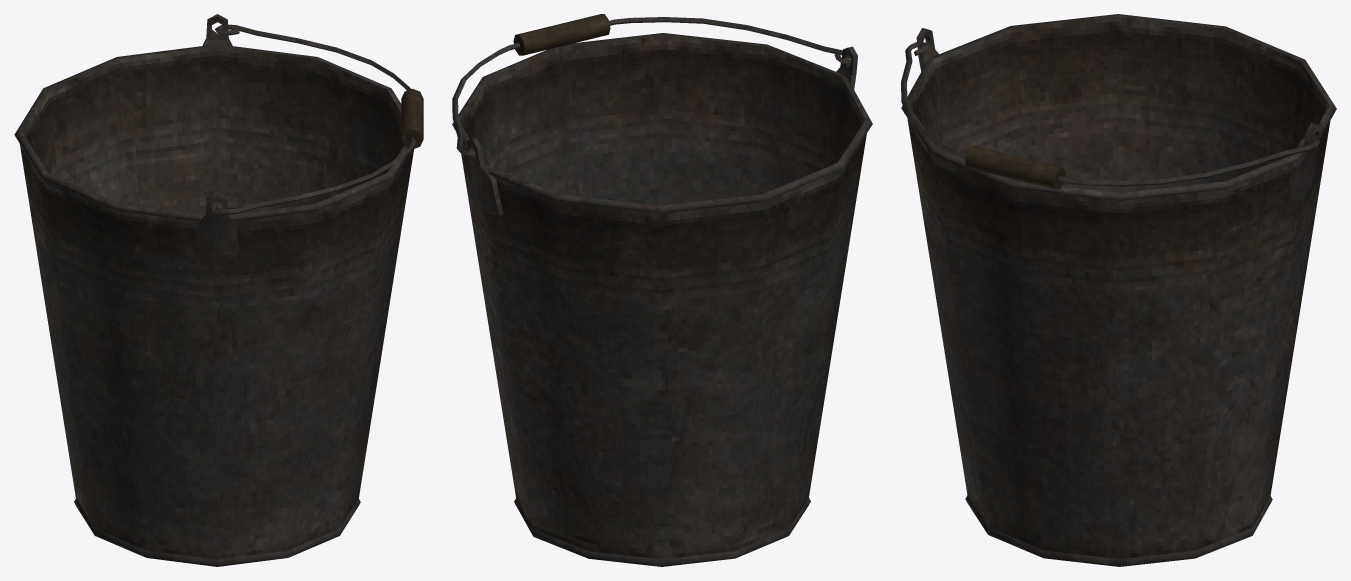
Rendered from bucket_mx_2.glb.
The picture shows the model from 3 angles, left to right: view 1: azimuth 30°, elevation 25°; view 2: azimuth 150°, elevation 25°; view 3: azimuth 270°, elevation 25°; orthographic projection. The views are drawn at different scales.
Parts seen in each view (by area): view 1: bucket_mx_2; view 2: bucket_mx_2; view 3: bucket_mx_2.
Boxes of the visible parts, box(x1,y1,x2,y2) form: bucket_mx_2: box(14, 14, 423, 566); bucket_mx_2: box(452, 14, 872, 566); bucket_mx_2: box(901, 14, 1336, 566).
Bounding box in the file's own units: 0.4314 × 0.4651 × 0.43.
Materials: 1 (1 with a texture image).
